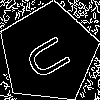U: (23, 28, 80, 83)
